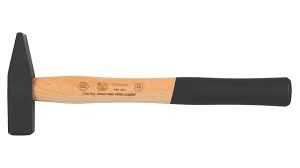hammer: (6, 31, 292, 136)
